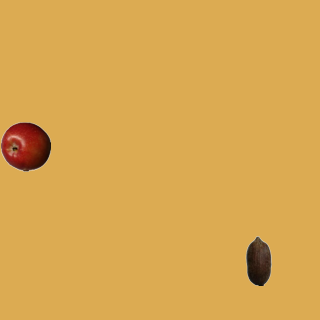Apple Braeburn: (0, 121, 50, 171)
Nut Pecan: (233, 235, 283, 285)
